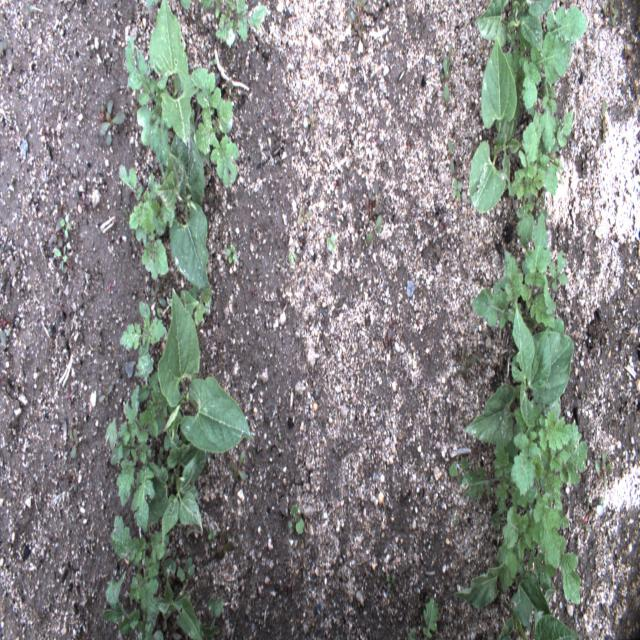crop: (155, 286, 258, 448), (462, 302, 577, 444), (465, 33, 519, 218), (163, 117, 210, 295), (150, 1, 192, 149)
weed: (467, 471, 582, 631), (105, 518, 207, 636), (466, 212, 567, 331), (118, 31, 188, 184), (105, 383, 171, 537), (494, 414, 591, 509), (509, 2, 594, 98), (114, 159, 174, 283), (194, 57, 240, 200), (511, 100, 573, 200), (506, 562, 585, 635), (159, 443, 209, 543), (122, 294, 178, 382), (180, 1, 274, 52), (405, 589, 442, 636), (57, 205, 72, 244)
